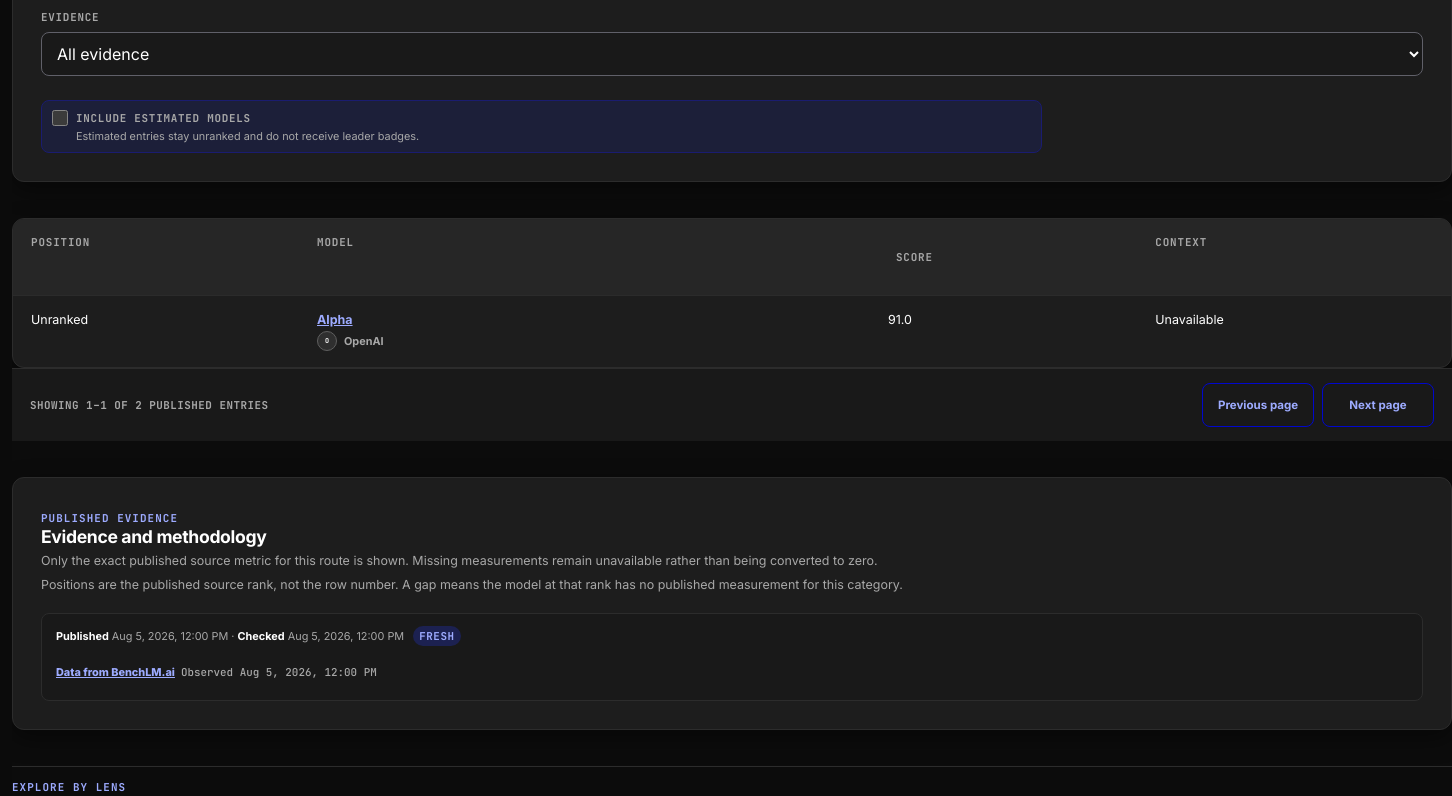
Test: LeaderboardPage › returns once to the latest first page when a revision invalidates a pagination cursor
(page scrolled)
Click the button "Next page".
click(1378, 405)  # box [1322, 383, 1434, 427]
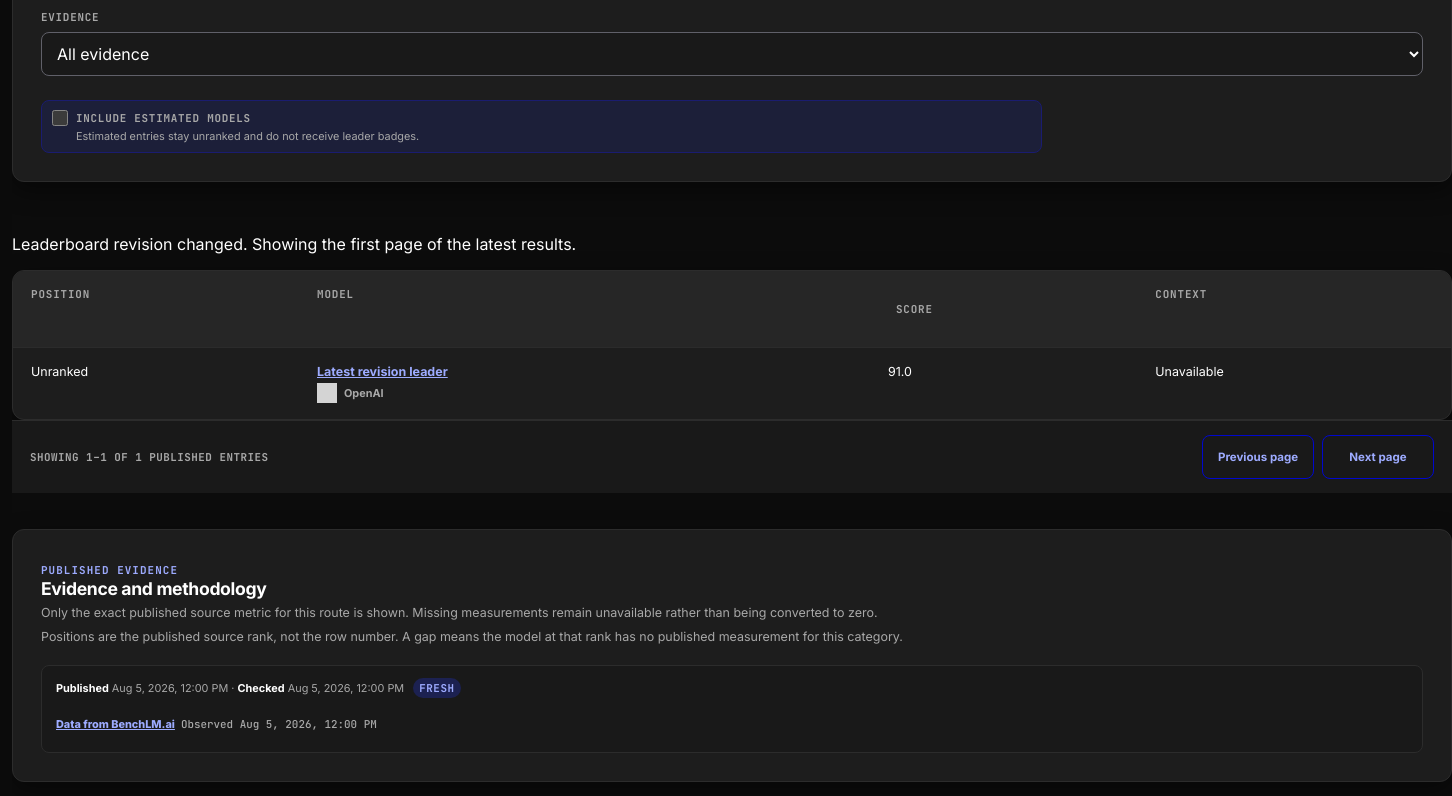
expect the button "Previous page" is disabled: met, box [1202, 435, 1314, 479]
expect the text "Leaderboard revision changed. Showing the first page of the latest results." is shown: met, box [12, 234, 576, 254]
expect the text "Showing 1–1 of 1 published entries" is shown: met, box [30, 450, 268, 464]
